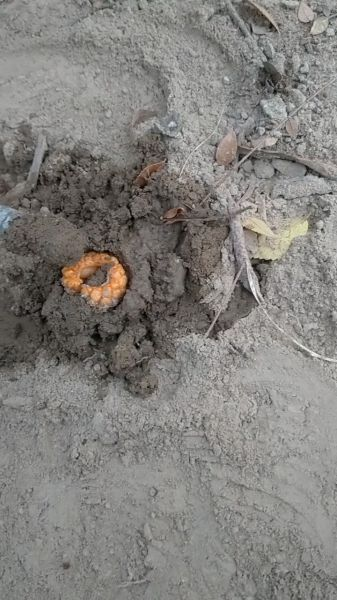eggs: (52, 245, 133, 316)
